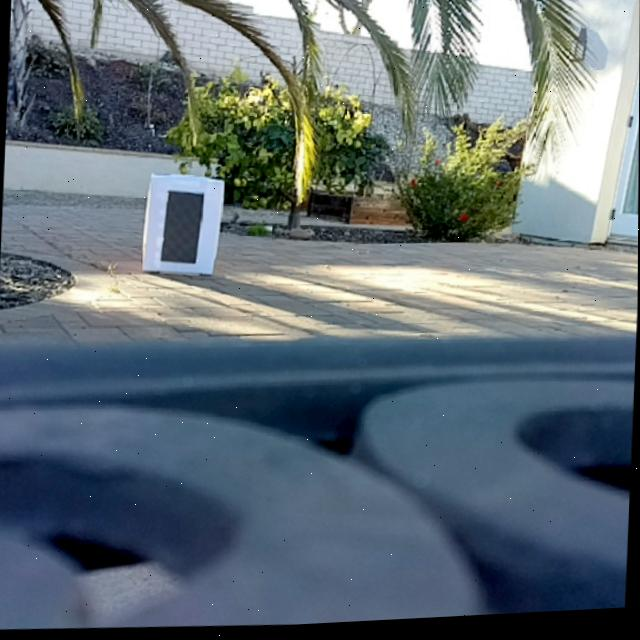led: (161, 190, 203, 267)
